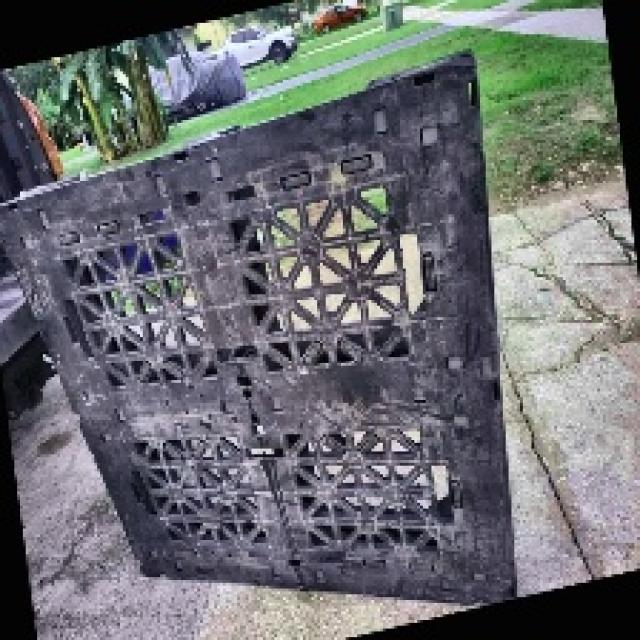igps: (0, 43, 523, 609)
